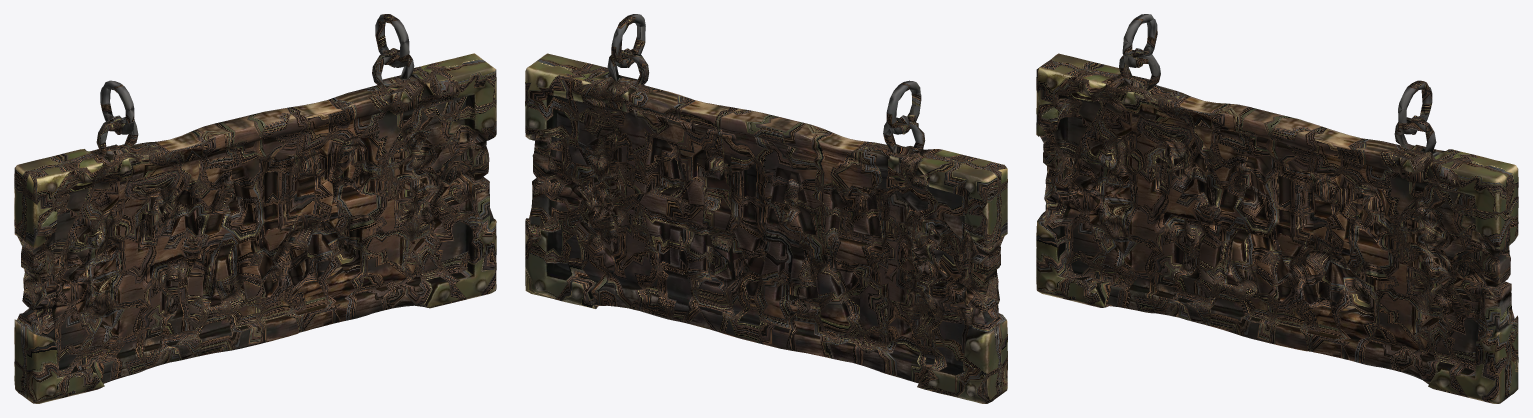
File: sign.glb
3 views of the same model, side by side, from view 1: azimuth 30°, elevation 25°; view 2: azimuth 150°, elevation 25°; view 3: azimuth 330°, elevation 25° (orthographic).
Bounding box in the file's own units: 1.9 × 1.14 × 0.2164.
1 material, 1 textured.
